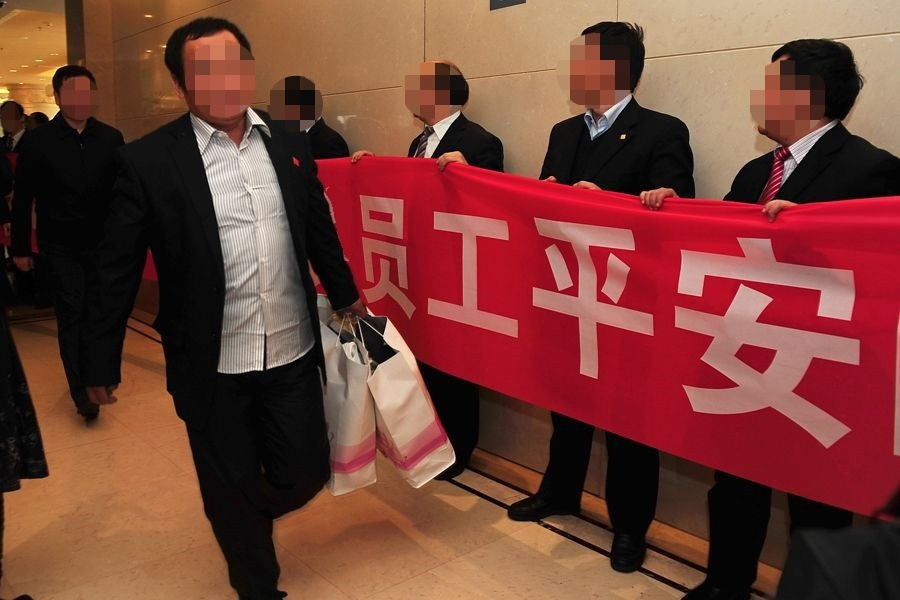text: (865, 189, 881, 457), (369, 189, 384, 457), (385, 189, 400, 457), (401, 189, 416, 457), (417, 189, 432, 457), (433, 189, 448, 457), (449, 189, 464, 457), (465, 189, 480, 457), (481, 189, 496, 457), (497, 189, 512, 457), (513, 189, 528, 457), (529, 189, 544, 457), (545, 189, 560, 457), (561, 189, 576, 457), (577, 189, 592, 457), (593, 189, 608, 457), (609, 189, 624, 457), (625, 189, 640, 457), (641, 189, 656, 457), (657, 189, 672, 457), (673, 189, 688, 457), (689, 189, 704, 457), (705, 189, 720, 457), (721, 189, 736, 457), (737, 189, 752, 457), (753, 189, 768, 457), (769, 189, 784, 457), (785, 189, 800, 457), (801, 189, 816, 457), (817, 189, 832, 457), (833, 189, 848, 457), (849, 189, 864, 457), (357, 189, 368, 457)
